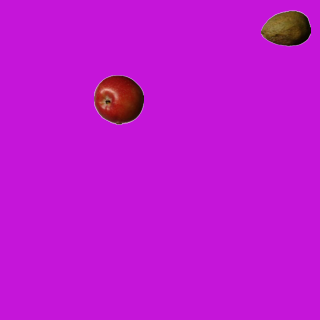Apple Braeburn: (93, 74, 143, 124)
Papaya: (260, 3, 310, 53)
